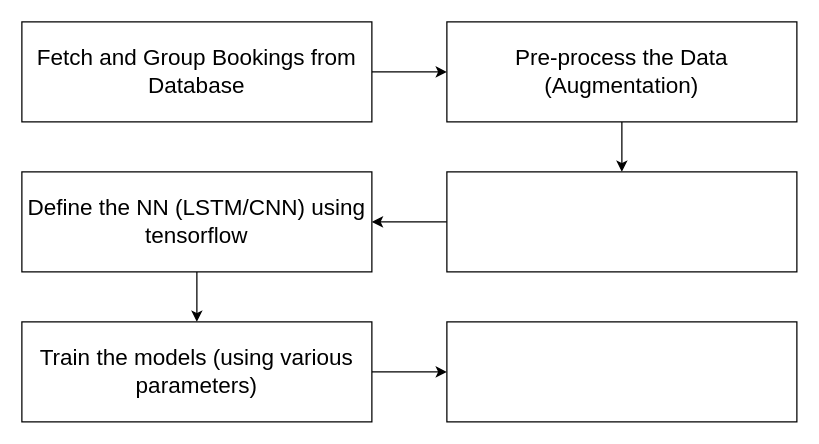
This 819x444 diagram has some shape labels left out. The centre of each missing label's shape, as x and y in pixels:
"Split the Data into a training and testing set" belongs at [621,221].
"Testing the models (times serires prediction)" belongs at [621,371].
